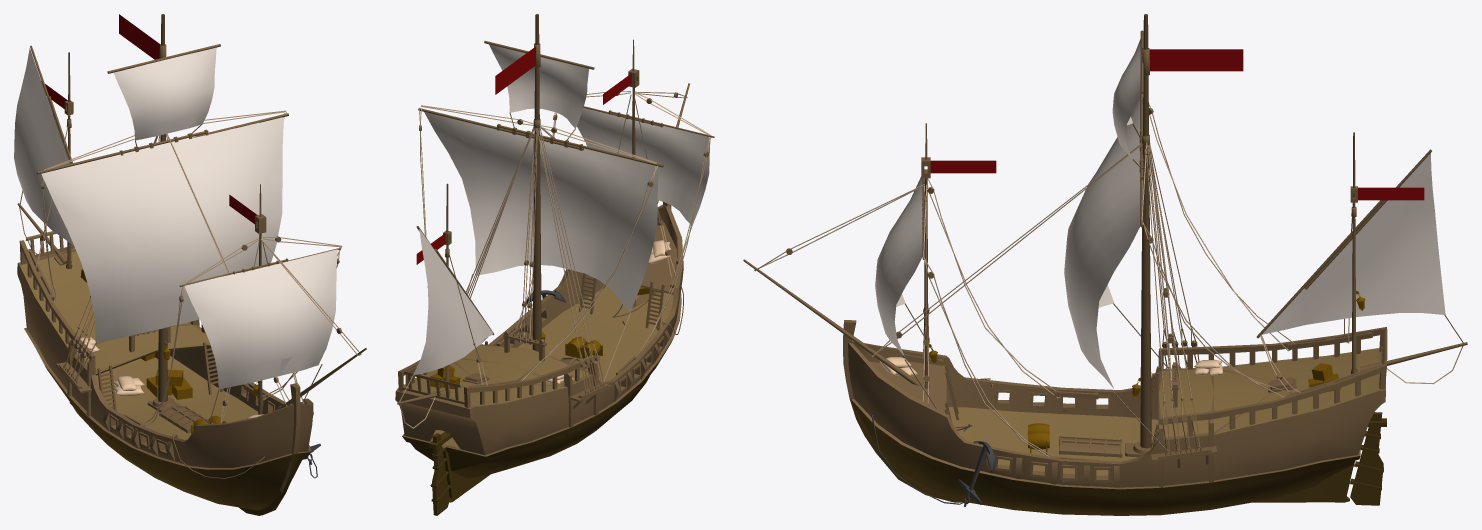
The model's file is ship.fbx.
3 renders of one model, left to right at view 1: azimuth 30°, elevation 25°; view 2: azimuth 150°, elevation 25°; view 3: azimuth 270°, elevation 25°, orthographic. The views are drawn at different scales.
Parts seen in each view (by area): view 1: Ship_free:Sails, polySurface1, polySurface270, polySurface294, polySurface256, polySurface223, polySurface247; view 2: Ship_free:Sails, polySurface1, polySurface270, polySurface44, polySurface282, polySurface294, polySurface113, polySurface249, polySurface121, polySurface250, polySurface256, polySurface257; view 3: polySurface1, Ship_free:Sails, polySurface270, polySurface294, polySurface282, polySurface44, polySurface223, polySurface248, polySurface296, polySurface295, polySurface231, polySurface113.
Boxes of the visible parts, <box> form: Ship_free:Sails: <box>14,47,337,389</box>; polySurface1: <box>17,240,313,515</box>; polySurface270: <box>158,14,167,401</box>; polySurface294: <box>119,14,159,59</box>; polySurface256: <box>36,131,205,174</box>; polySurface223: <box>166,133,291,406</box>; polySurface247: <box>260,239,361,355</box>; Ship_free:Sails: <box>413,44,710,375</box>; polySurface1: <box>395,202,683,502</box>; polySurface270: <box>532,14,541,351</box>; polySurface44: <box>640,223,677,294</box>; polySurface282: <box>432,433,449,515</box>; polySurface294: <box>495,46,535,94</box>; polySurface113: <box>517,166,657,381</box>; polySurface249: <box>526,128,537,344</box>; polySurface121: <box>636,137,711,356</box>; polySurface250: <box>520,127,535,342</box>; polySurface256: <box>499,125,663,167</box>; polySurface257: <box>418,108,583,150</box>; polySurface1: <box>843,320,1386,515</box>; Ship_free:Sails: <box>875,39,1445,388</box>; polySurface270: <box>1140,14,1151,448</box>; polySurface294: <box>1149,49,1243,71</box>; polySurface282: <box>1350,412,1383,505</box>; polySurface44: <box>869,361,946,412</box>; polySurface223: <box>872,143,1141,356</box>; polySurface248: <box>743,259,922,385</box>; polySurface296: <box>1357,187,1424,200</box>; polySurface295: <box>930,160,996,173</box>; polySurface231: <box>1351,132,1357,373</box>; polySurface113: <box>1149,103,1294,351</box>.
Bounding box in the file's own units: 268 × 447 × 599.
